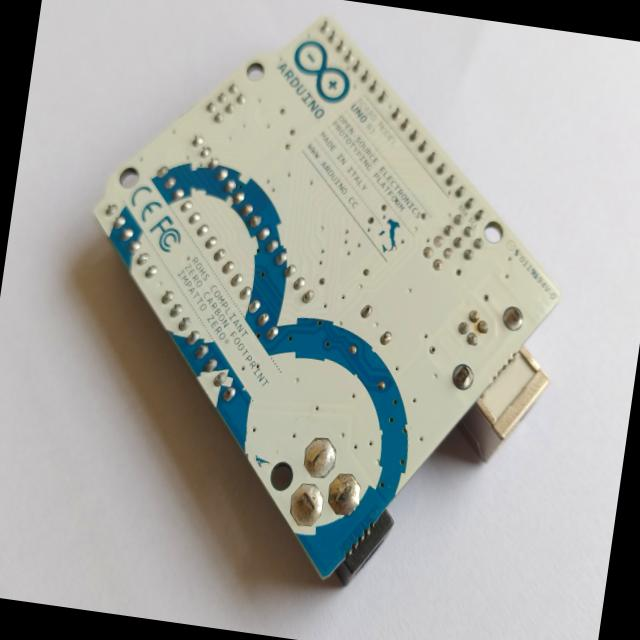arduino: (44, 0, 609, 624)
